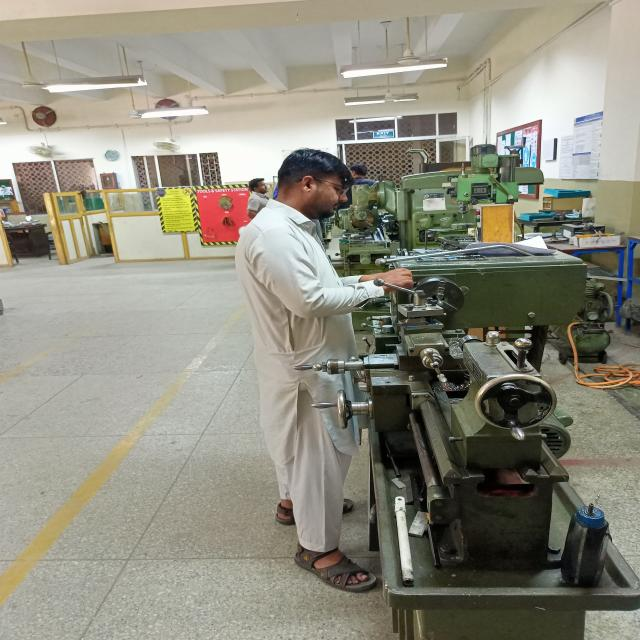dress: (235, 197, 386, 558), (238, 189, 284, 220)
glasses: (312, 176, 359, 198)
